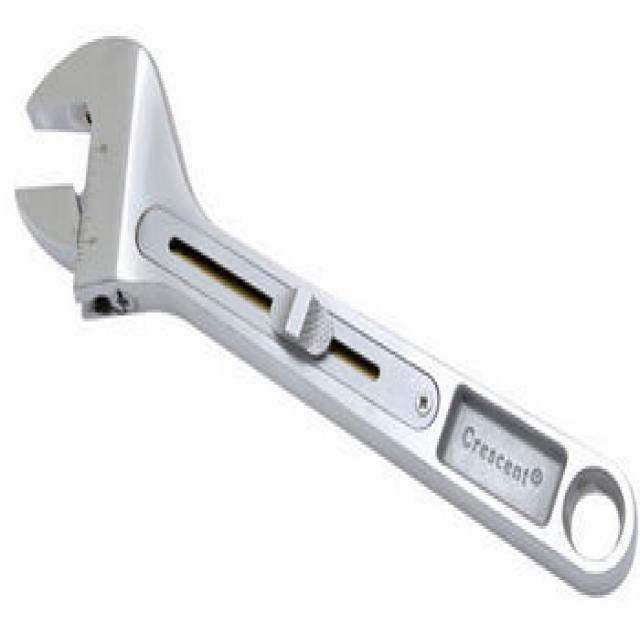wrench: (0, 0, 638, 608)
